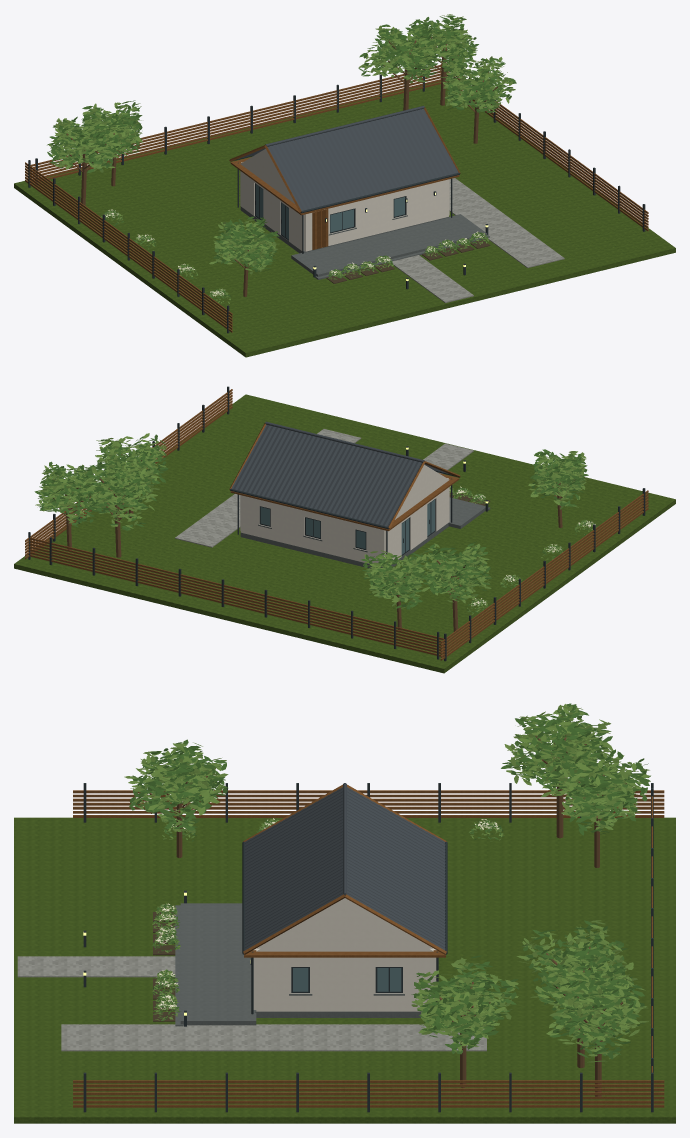
Rendered from casa-01.glb.
The picture shows the model from 3 angles, top to bottom: view 1: azimuth 30°, elevation 25°; view 2: azimuth 150°, elevation 25°; view 3: azimuth 270°, elevation 25°; orthographic projection. The views are drawn at different scales.
Visible parts, largest first — view 1: landscape_grass, landscape_wood, architecture_roof, landscape_leaf-light, landscape_leaf, architecture_stucco, landscape_paving, landscape_stone, architecture_wood, landscape_metal, landscape_trunk, architecture_metal (+3 smaller); view 2: landscape_grass, landscape_wood, architecture_roof, landscape_leaf-light, landscape_leaf, architecture_stucco, landscape_paving, landscape_metal, architecture_wood, architecture_metal, architecture_glass, landscape_trunk (+2 smaller); view 3: landscape_grass, landscape_wood, landscape_leaf, architecture_roof, landscape_leaf-light, landscape_paving, architecture_stucco, landscape_stone, architecture_wood, landscape_metal, landscape_trunk, architecture_metal (+4 smaller).
Boxes of the visible parts, box(x1,y1,x2,y2) form: landscape_grass: box(14, 81, 675, 357); landscape_wood: box(25, 61, 648, 332); architecture_roof: box(241, 105, 458, 210); landscape_leaf-light: box(48, 14, 515, 306); landscape_leaf: box(47, 15, 516, 299); architecture_stucco: box(240, 149, 449, 251); landscape_paving: box(390, 178, 564, 302); landscape_stone: box(291, 214, 489, 279); architecture_wood: box(229, 107, 460, 249); landscape_metal: box(28, 66, 645, 333); landscape_trunk: box(66, 36, 497, 296); architecture_metal: box(234, 154, 459, 253); landscape_grass: box(14, 394, 675, 673); landscape_wood: box(25, 389, 648, 660); architecture_roof: box(231, 421, 448, 526); landscape_leaf-light: box(35, 433, 597, 614); landscape_leaf: box(34, 434, 597, 613); architecture_stucco: box(240, 464, 449, 567); landscape_paving: box(175, 429, 473, 547); landscape_metal: box(28, 386, 645, 661); architecture_wood: box(229, 423, 460, 531); architecture_metal: box(230, 470, 456, 557); architecture_glass: box(260, 499, 434, 554); landscape_trunk: box(53, 454, 574, 632); landscape_grass: box(14, 817, 675, 1123); landscape_wood: box(73, 790, 664, 1107); landscape_leaf: box(129, 703, 650, 1059); architecture_roof: box(244, 783, 445, 950); landscape_leaf-light: box(124, 704, 649, 1062); landscape_paving: box(17, 956, 486, 1051); architecture_stucco: box(253, 898, 436, 1011); landscape_stone: box(175, 903, 256, 1026); architecture_wood: box(243, 784, 446, 957); landscape_metal: box(83, 783, 653, 1112); landscape_trunk: box(149, 734, 626, 1096); architecture_metal: box(242, 841, 447, 1014).
Bounding box in the file's own units: 30.57 × 6.5 × 28.
16 materials, 5 textured.
